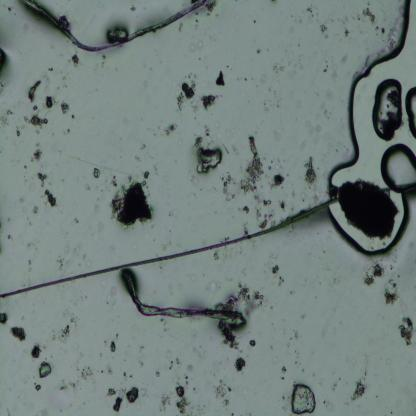Air bubble: (327, 0, 416, 260), (372, 78, 402, 142), (404, 86, 416, 139)
Background material: (335, 177, 398, 244), (111, 178, 154, 228), (209, 282, 267, 314), (238, 133, 264, 195), (192, 135, 224, 173), (154, 385, 185, 414), (289, 383, 317, 415), (107, 387, 142, 412), (159, 346, 187, 376), (176, 76, 198, 113), (60, 368, 96, 389), (254, 197, 277, 229), (309, 10, 333, 38), (220, 320, 240, 350), (362, 262, 384, 288), (398, 313, 414, 348), (176, 380, 192, 414), (0, 48, 15, 82), (384, 280, 402, 307), (302, 156, 318, 186), (58, 306, 80, 327), (220, 174, 236, 202), (350, 380, 370, 402), (216, 381, 232, 407), (23, 112, 50, 127), (43, 186, 59, 210), (105, 28, 129, 43), (270, 50, 284, 74), (29, 81, 42, 106), (268, 172, 286, 190), (257, 64, 272, 85), (272, 262, 284, 288), (10, 324, 27, 342), (360, 5, 376, 24), (39, 358, 53, 379), (200, 94, 217, 111), (56, 325, 72, 343), (232, 353, 247, 372), (21, 255, 36, 273), (162, 123, 178, 139), (53, 251, 67, 269), (99, 363, 114, 378), (342, 23, 354, 41), (215, 70, 226, 88), (28, 202, 40, 217), (37, 170, 48, 186), (32, 343, 42, 359), (252, 43, 262, 58), (280, 361, 287, 382), (374, 25, 386, 37), (32, 150, 42, 164), (60, 102, 70, 116), (45, 95, 54, 110), (242, 221, 250, 237), (110, 338, 119, 352), (121, 367, 132, 378), (70, 54, 80, 66), (278, 199, 287, 210), (248, 337, 257, 348), (241, 204, 250, 215), (154, 370, 165, 378), (93, 168, 100, 180), (0, 311, 7, 323), (144, 169, 150, 180), (32, 105, 38, 111), (16, 130, 20, 137)
Cellulose filter fibre: (17, 1, 208, 55), (122, 270, 242, 325)
Microfibre: (0, 183, 416, 300)
